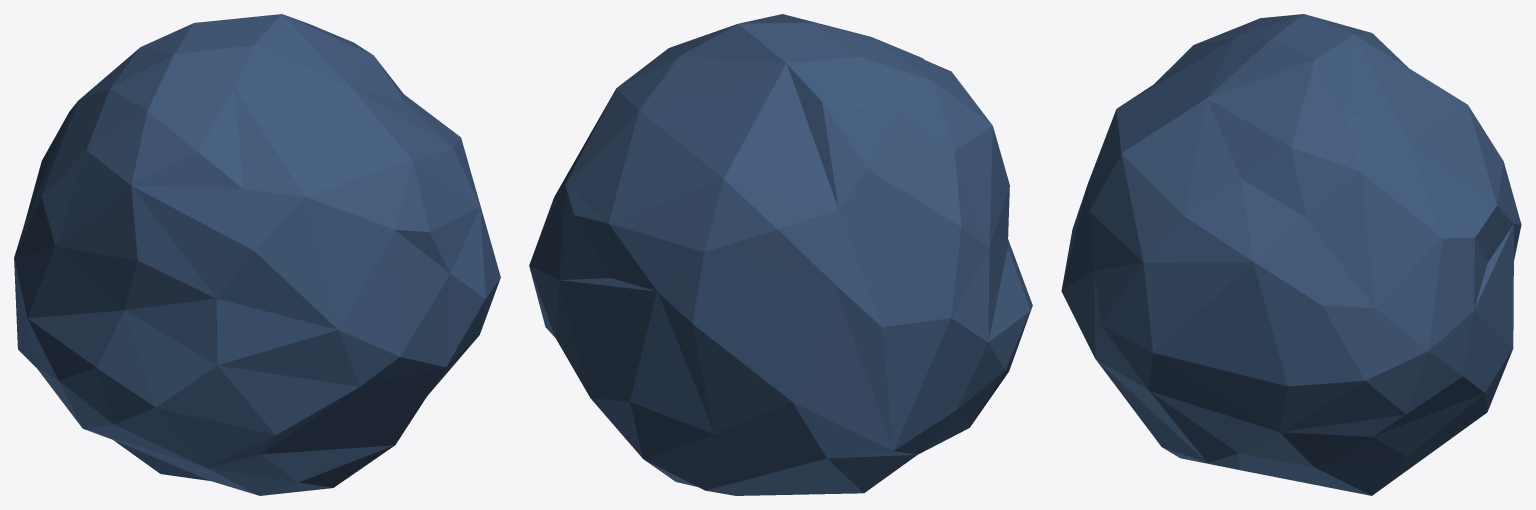
The picture shows the model from 3 angles, left to right: view 1: azimuth 30°, elevation 25°; view 2: azimuth 150°, elevation 25°; view 3: azimuth 270°, elevation 25°; orthographic projection. The views are drawn at different scales.
Visible parts, largest first — view 1: Icosphere.019; view 2: Icosphere.019; view 3: Icosphere.019.
Part boxes in pixels (<box>): Icosphere.019: <box>14,14,500,495</box>; Icosphere.019: <box>529,14,1032,495</box>; Icosphere.019: <box>1061,14,1521,495</box>.
Bounding box in the file's own units: 2.24 × 2.26 × 2.2.
